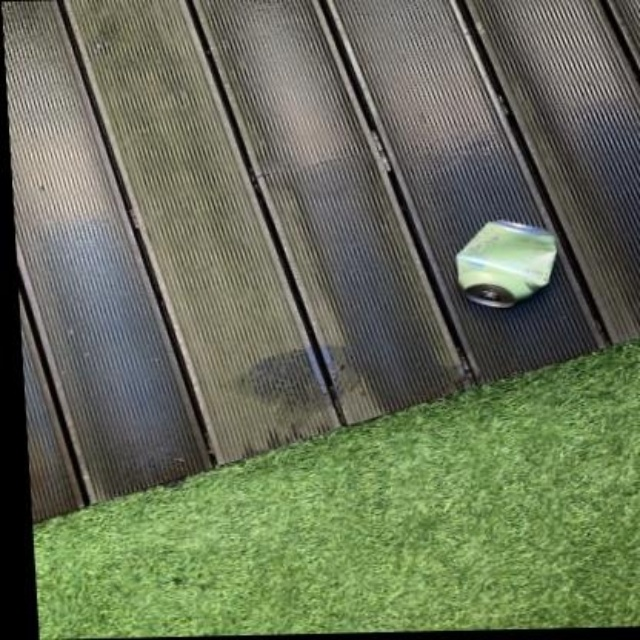trash: (455, 222, 555, 306)
